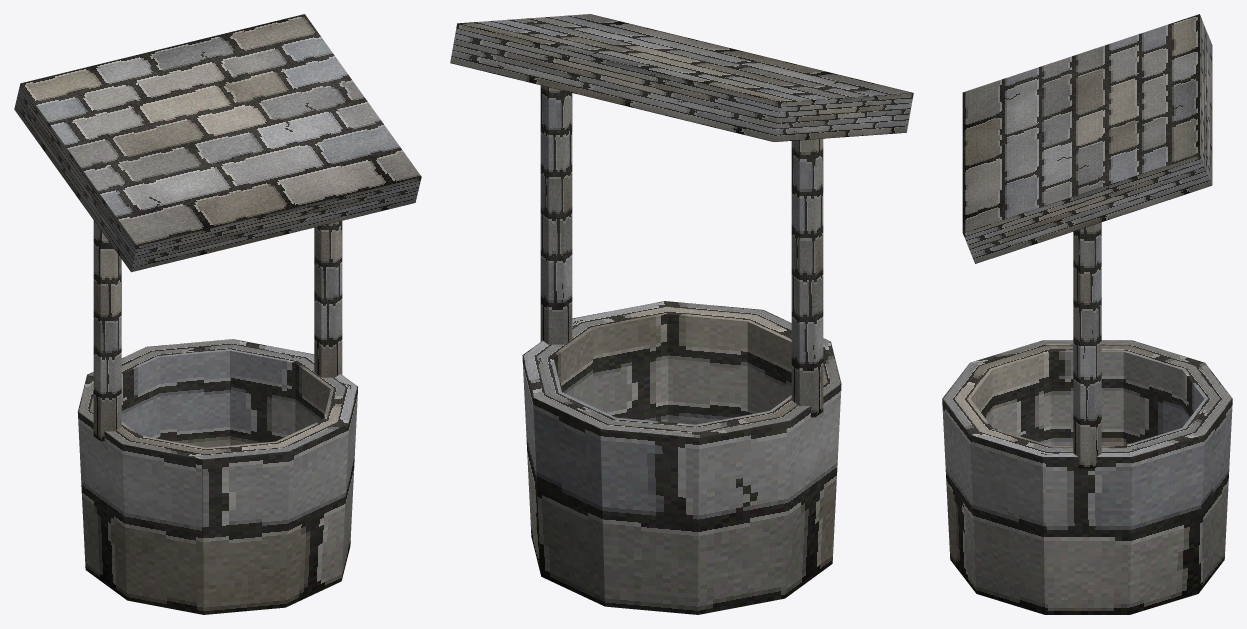
The model's file is poco.glb.
3 views of the same model, side by side, from view 1: azimuth 30°, elevation 25°; view 2: azimuth 150°, elevation 25°; view 3: azimuth 270°, elevation 25° (orthographic). The views are drawn at different scales.
Visible parts, largest first — view 1: poco; view 2: poco; view 3: poco.
Boxes of the visible parts, x1,y1,x2,y2 form: poco: (14, 14, 421, 614); poco: (450, 14, 913, 614); poco: (942, 14, 1232, 614).
Size of the model in its own units: 1.65 by 2.6 by 1.44.
1 material, 1 textured.
